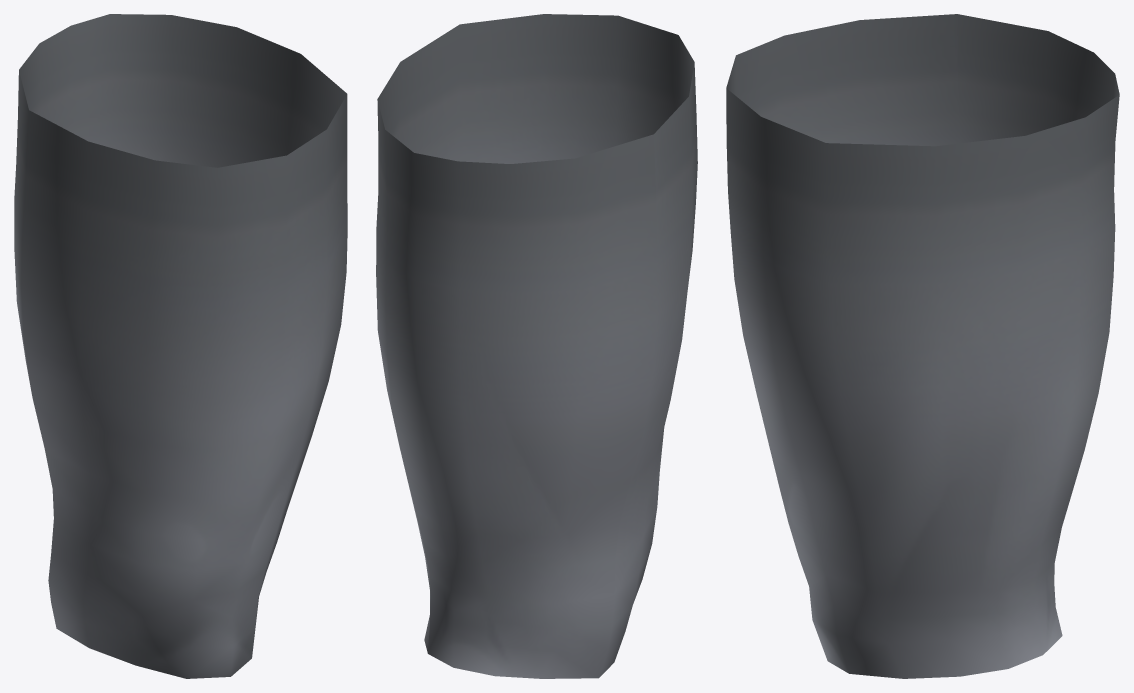
Rendered from Bote_PiernaIzq.obj.
3 renders of one model, left to right at view 1: azimuth 30°, elevation 25°; view 2: azimuth 150°, elevation 25°; view 3: azimuth 270°, elevation 25°, orthographic. The views are drawn at different scales.
Parts seen in each view (by area): view 1: Object005; view 2: Object005; view 3: Object005.
Boxes of the visible parts, x1=… form: Object005: x1=14, y1=14, x2=347, y2=678; Object005: x1=376, y1=14, x2=697, y2=678; Object005: x1=726, y1=14, x2=1119, y2=678.
Bounding box in the file's own units: 0.6612 × 1.31 × 0.8072.
